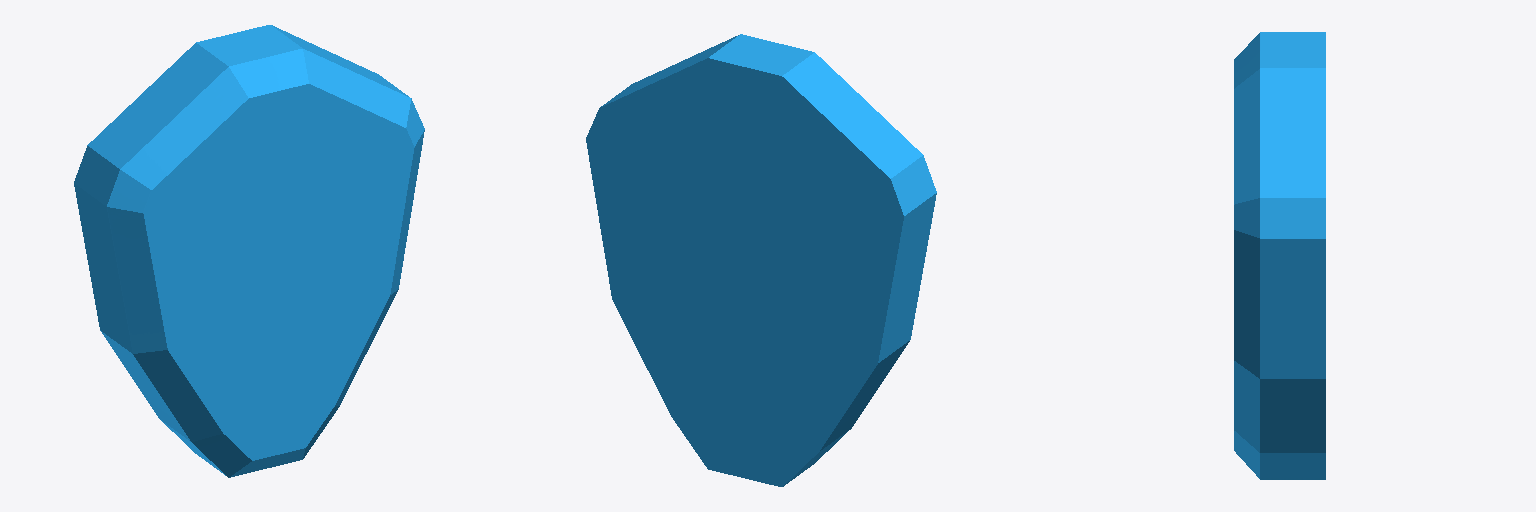
3 renders of one model, left to right at view 1: azimuth 30°, elevation 25°; view 2: azimuth 150°, elevation 25°; view 3: azimuth 270°, elevation 25°, orthographic.
Parts seen in each view (by area): view 1: pCube2; view 2: pCube2; view 3: pCube2.
Boxes of the visible parts, x1=… form: pCube2: x1=74, y1=25, x2=424, y2=477; pCube2: x1=586, y1=34, x2=936, y2=486; pCube2: x1=1234, y1=32, x2=1325, y2=479.
Bounding box in the file's own units: 1.43 × 1.77 × 0.3578.
1 materials, 1 textured.